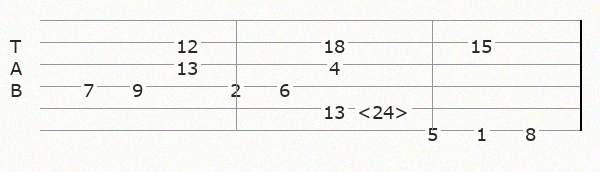1: (476, 122, 491, 139)
12: (176, 34, 202, 51)
13: (176, 56, 202, 73), (323, 100, 349, 117)
15: (470, 34, 496, 51)
18: (323, 34, 349, 51)
2: (230, 78, 245, 95)
4: (329, 56, 344, 73)
5: (427, 122, 442, 139)
6: (279, 78, 294, 95)
7: (83, 78, 98, 95)
8: (525, 122, 540, 139)
9: (132, 78, 147, 95)
harmonic: (357, 100, 413, 117)
